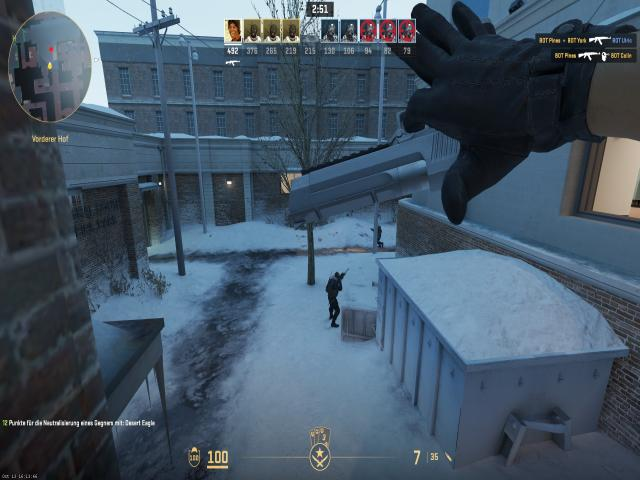CT: (326, 268, 342, 327), (377, 224, 384, 246)
CT-Head: (333, 272, 341, 280)
